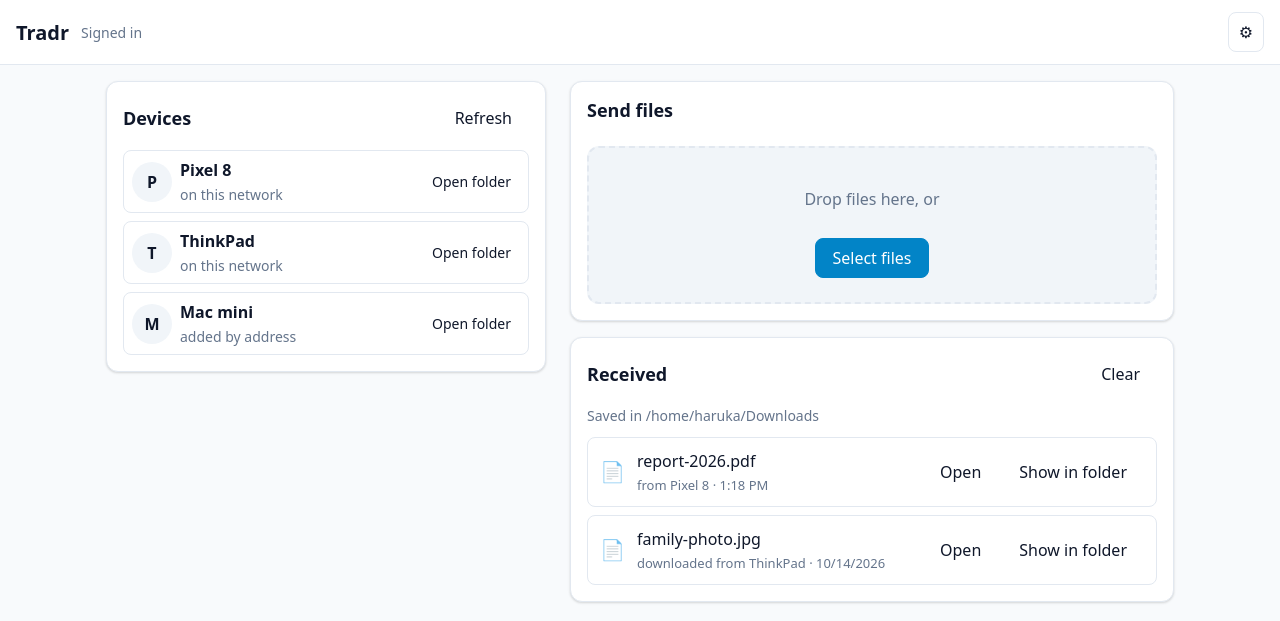
App component › shows Couldn't check your devices. and keeps button enabled when refresh_peers rejects
Expected: the text "Pixel 8" is shown, [180,159,232,181]
What coordinates should you click on to do the following:
click the button "Refresh"
I would click on:
 (483, 118)
Its box is [438,98,529,138].
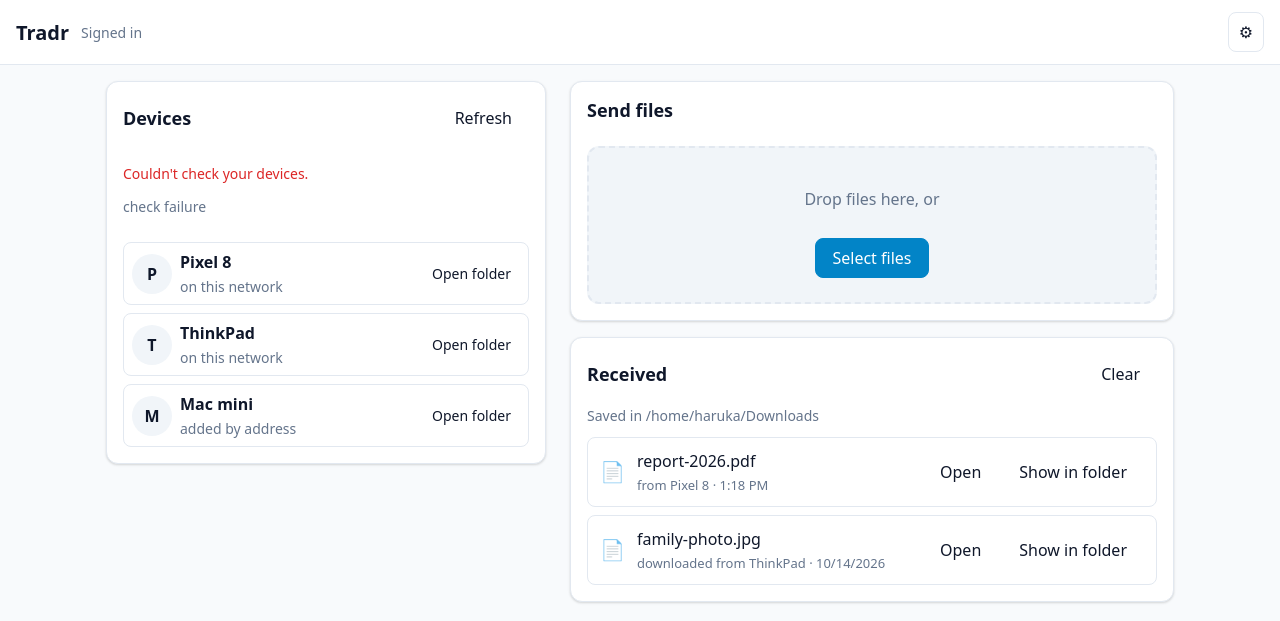
Now the text "check failure" is shown, box [123,197,206,216]
What coordinates should you click on to do the following:
click the button "Refresh"
I would click on:
 (483, 118)
Its box is [438,98,529,138].
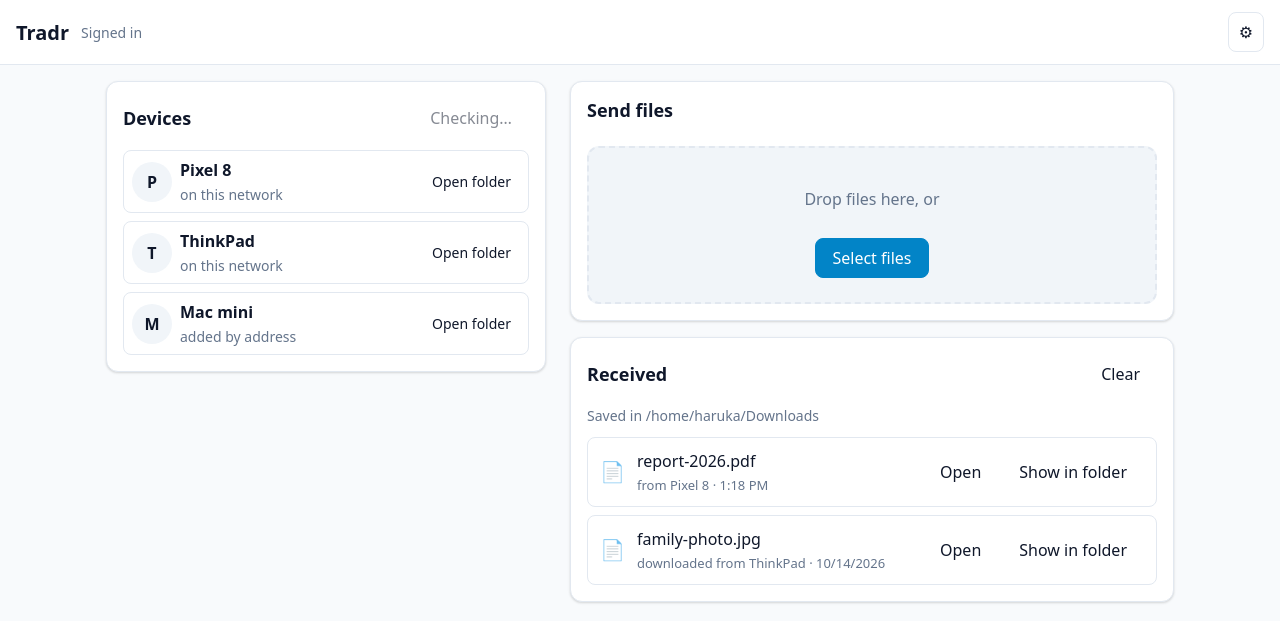
Now the text "Couldn't check your devices." is gone
